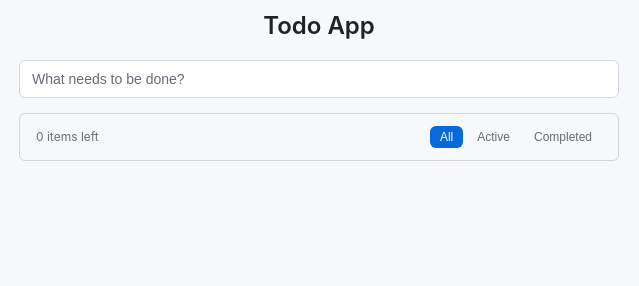
Test: App › shows all todos when All filter is selected
In the field with placeholder "What needs to be done?": x=319, y=79 [19,60,619,98], type "Buy milk"
Then press Enter
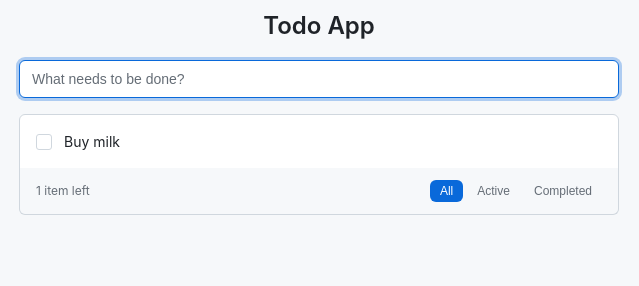
In the field with placeholder "What needs to be done?": x=319, y=79 [19,60,619,98], type "Walk the dog"
Then press Enter
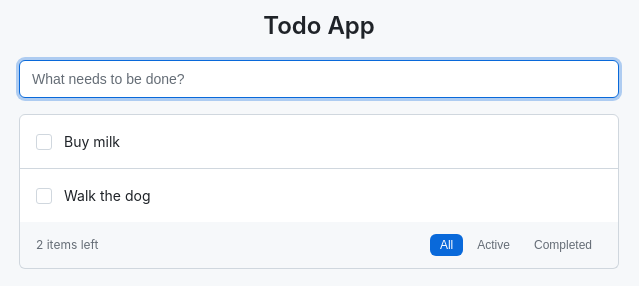
Click the checkbox next to "Buy milk": x=44, y=142 [36,134,52,150]
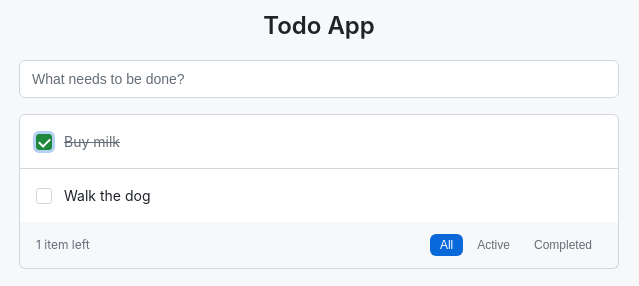
Click the button "Completed": x=563, y=245 [524,234,602,256]
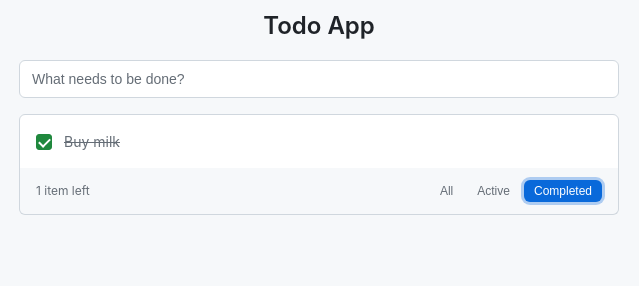
Click the button "All": x=447, y=191 [430,180,463,202]
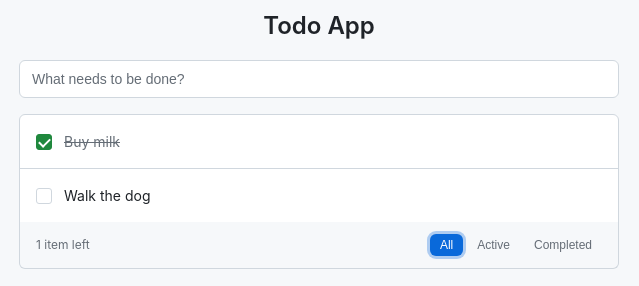
Expected: the text "Buy milk" is shown, [64,133,120,150]
Expected: the text "Walk the dog" is shown, [64,187,150,204]
